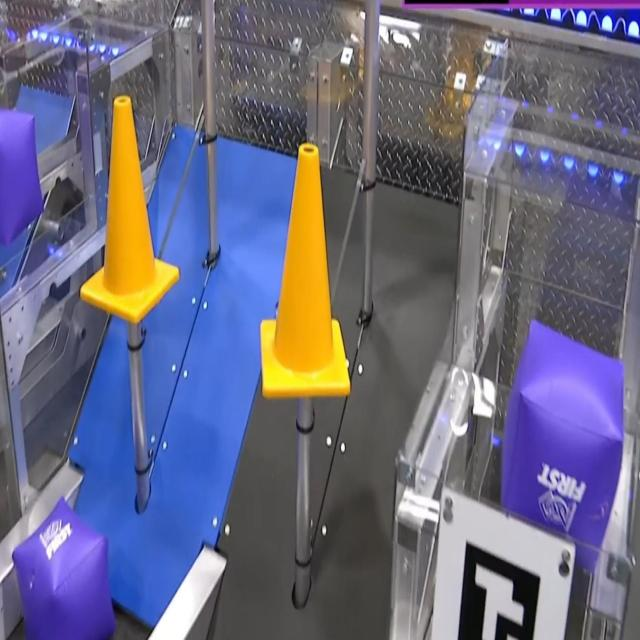frc_cone: (75, 88, 182, 320), (258, 132, 348, 397)
frc_cube: (495, 322, 631, 569), (11, 493, 113, 640), (0, 108, 44, 240)
